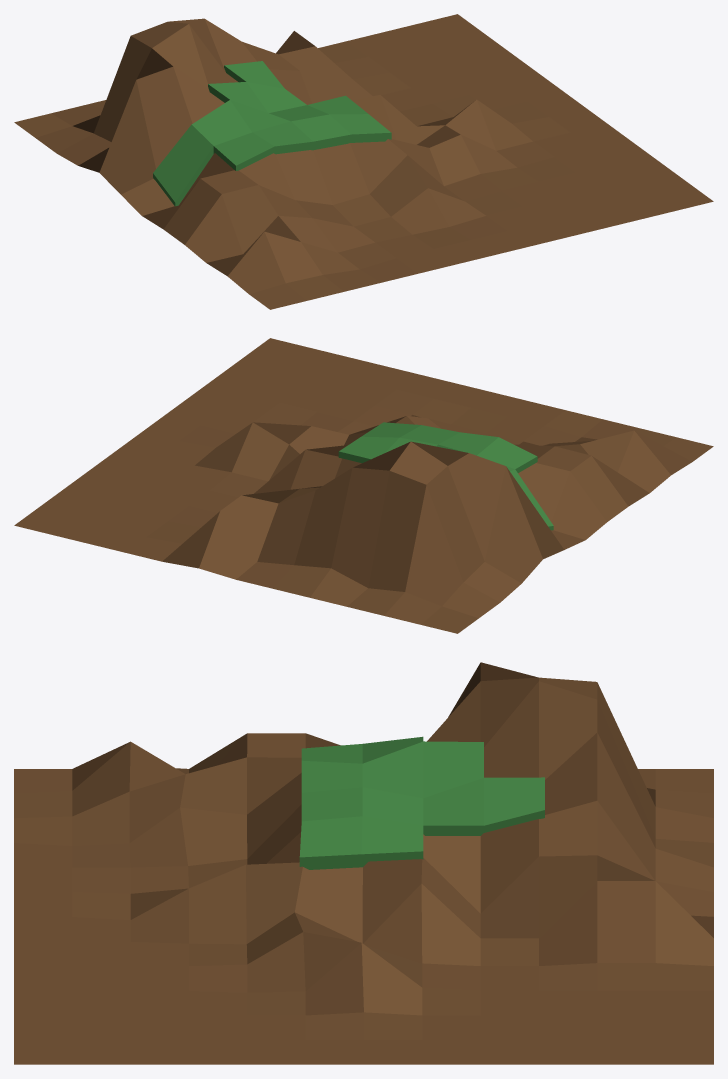
The model's file is tanahA.fbx.
3 views of the same model, one above another, from view 1: azimuth 30°, elevation 25°; view 2: azimuth 150°, elevation 25°; view 3: azimuth 270°, elevation 25° (orthographic). The views are drawn at different scales.
Parts seen in each view (by area): view 1: Tanah, Rumput; view 2: Tanah, Rumput; view 3: Tanah, Rumput.
Part boxes in pixels (x1,y1,x2,y2): Tanah: (14,14,713,309); Rumput: (153,61,391,206); Tanah: (14,338,713,633); Rumput: (338,422,553,530); Tanah: (14,662,713,1064); Rumput: (299,736,544,869).
Bounding box in the file's own units: 10.36 × 2.76 × 10.36.
